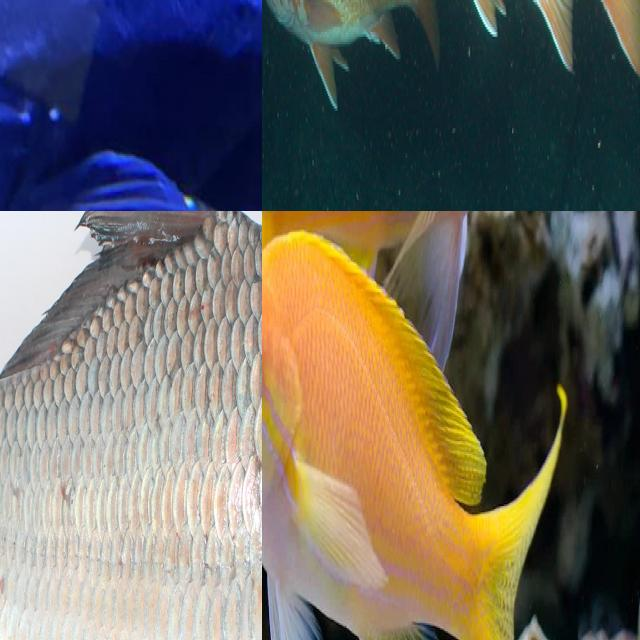fish: (0, 211, 262, 640), (262, 211, 435, 640), (0, 0, 262, 211)
